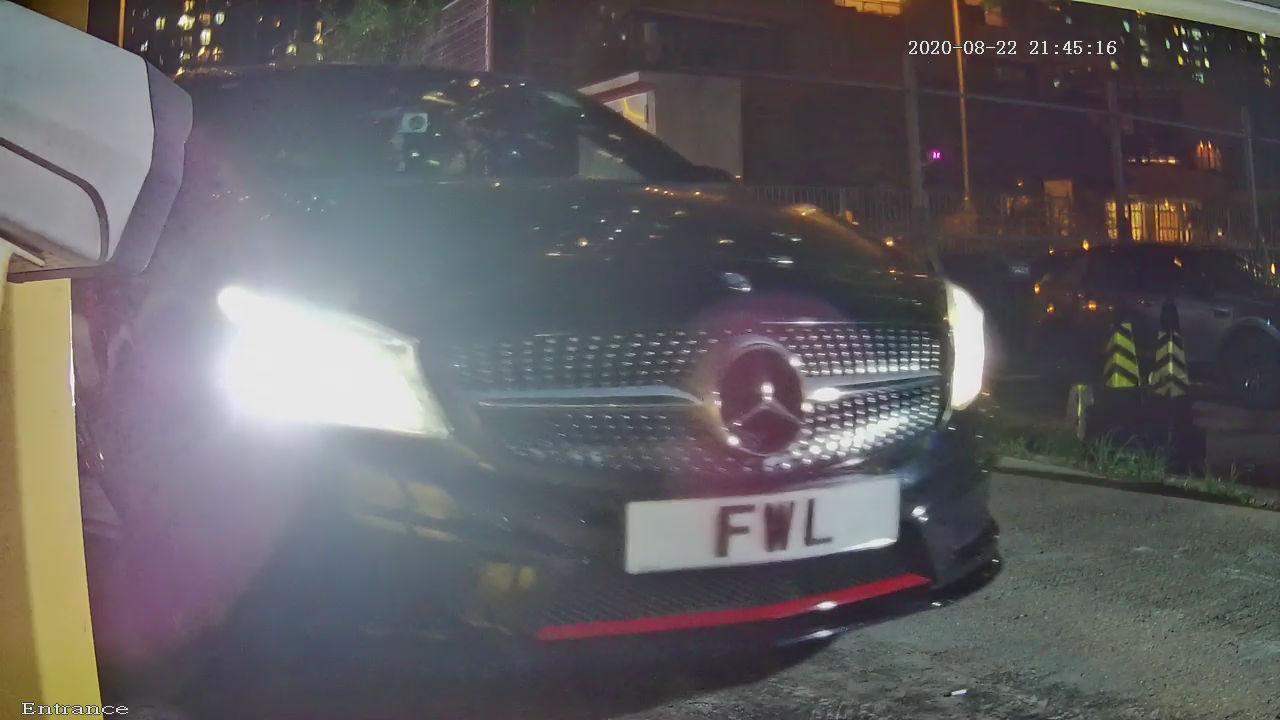Car: (29, 13, 1092, 704)
License Plate: (570, 425, 942, 608)
